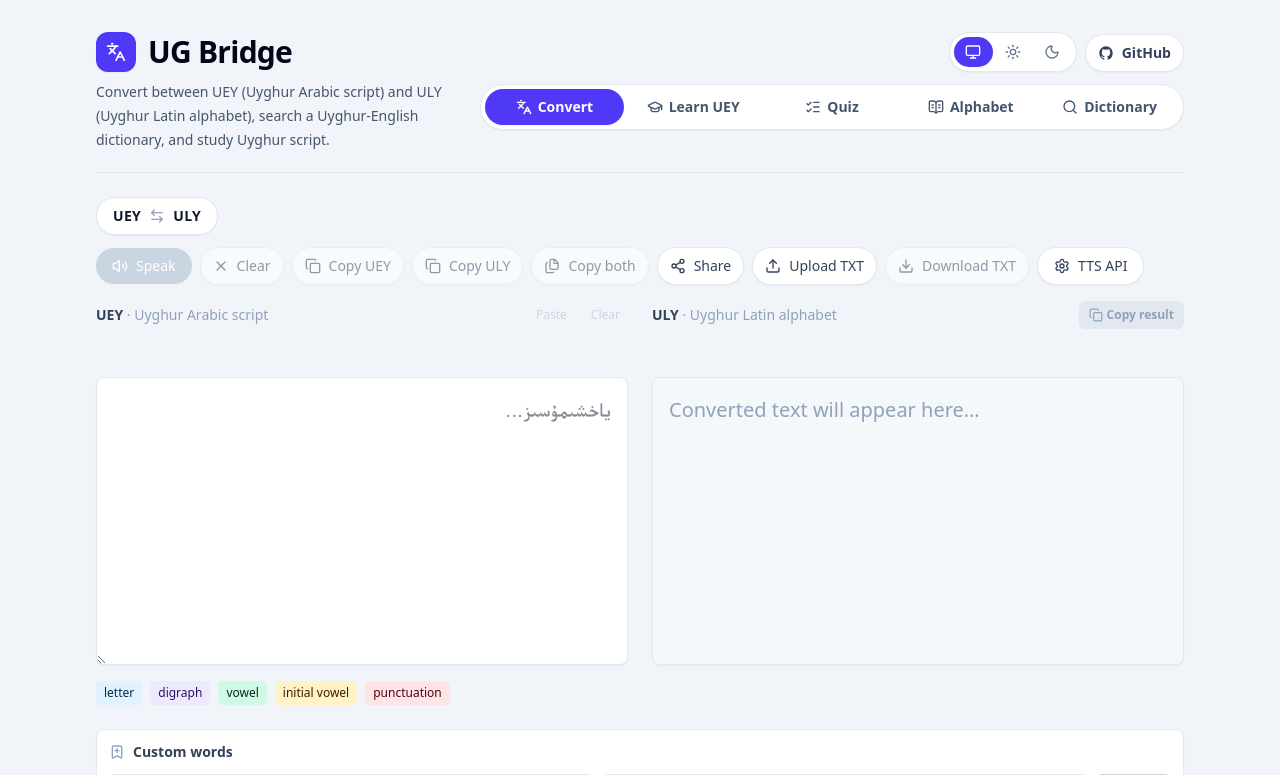
Scenario: App conversion workflow › shows a low-confidence hint for plain Latin text
Type "hello" into the text box labelled "UEY · Uyghur Arabic script" at (362, 521), box [96,377,628,665]
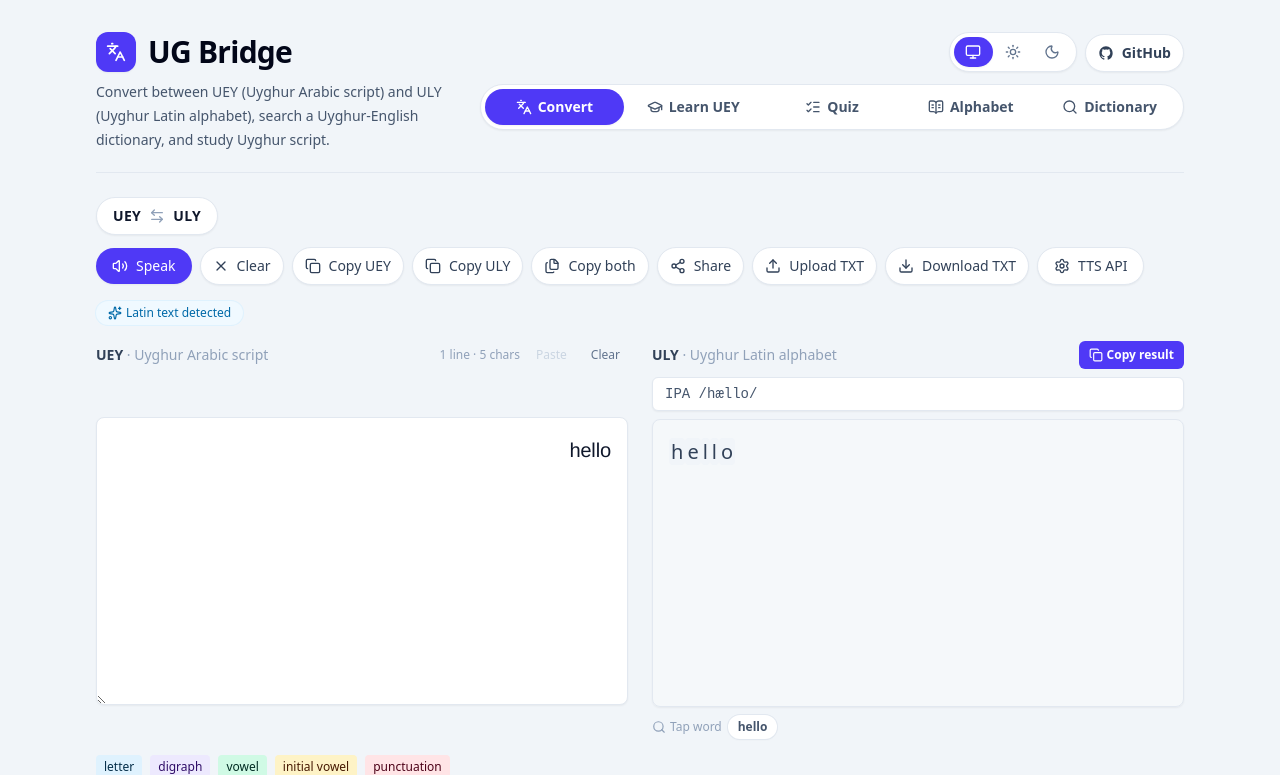
Now the text "Latin text detected" is shown, box [96,301,243,325]
